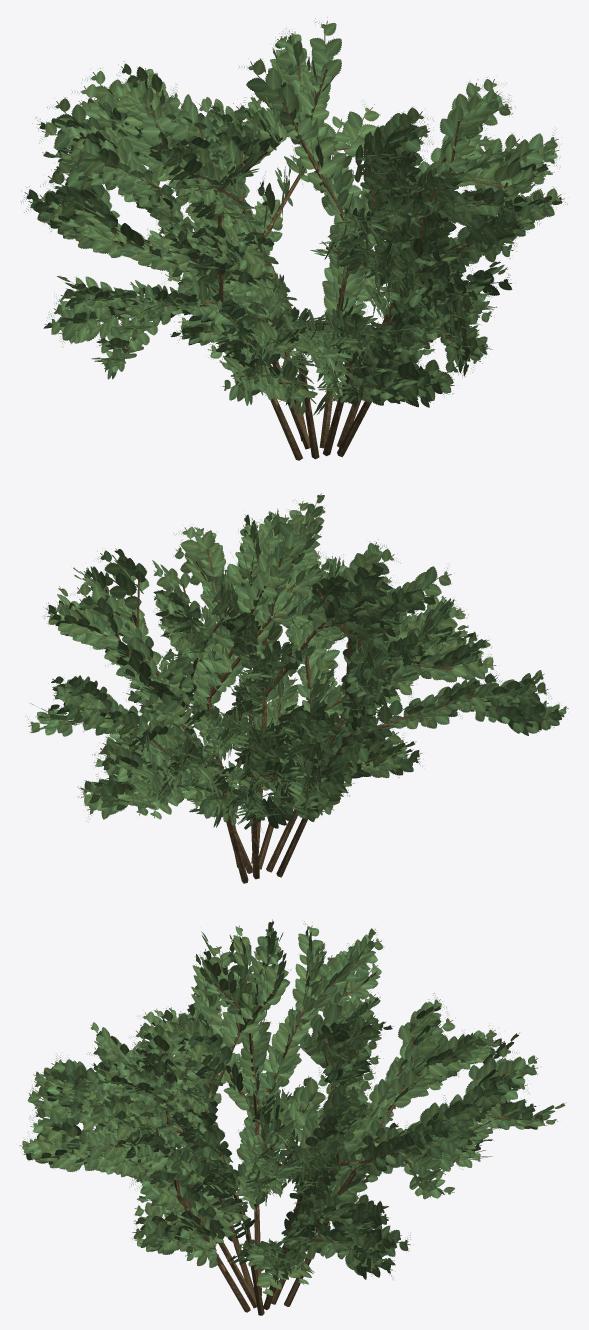
The model's file is alder_thicket_v02_LOD1.glb.
3 renders of one model, top to bottom at view 1: azimuth 30°, elevation 25°; view 2: azimuth 150°, elevation 25°; view 3: azimuth 270°, elevation 25°, orthographic. The views are drawn at different scales.
Parts seen in each view (by area): view 1: alder_thicket_v02_LOD1; view 2: alder_thicket_v02_LOD1; view 3: alder_thicket_v02_LOD1.
Boxes of the visible parts, <box> form: alder_thicket_v02_LOD1: <box>20,17,567,460</box>; alder_thicket_v02_LOD1: <box>25,493,568,883</box>; alder_thicket_v02_LOD1: <box>19,919,566,1315</box>.
Size of the model in its own units: 6.36 by 4.4 by 6.54.
2 materials, 2 textured.
